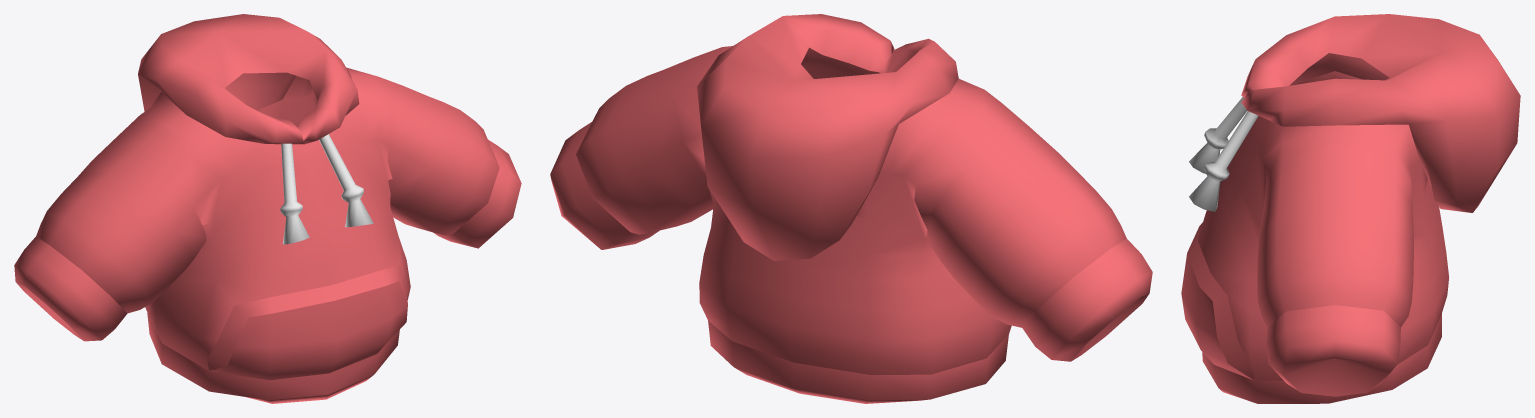
Rendered from Top_03_Fit.fbx.
3 renders of one model, left to right at view 1: azimuth 30°, elevation 25°; view 2: azimuth 150°, elevation 25°; view 3: azimuth 270°, elevation 25°, orthographic. The views are drawn at different scales.
Visible parts, largest first — view 1: Top_03_Fit; view 2: Top_03_Fit; view 3: Top_03_Fit.
Part boxes in pixels (bbox=[...]): Top_03_Fit: bbox=[14, 14, 521, 403]; Top_03_Fit: bbox=[550, 14, 1152, 403]; Top_03_Fit: bbox=[1181, 14, 1520, 403].
Bounding box in the file's own units: 91.47 × 52.57 × 50.2.
